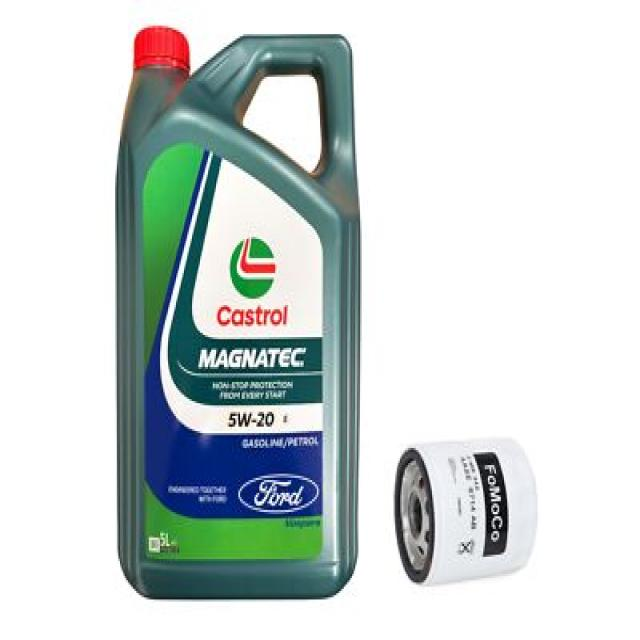motor_oil: (112, 23, 358, 607)
oil_filter: (392, 421, 543, 588)
